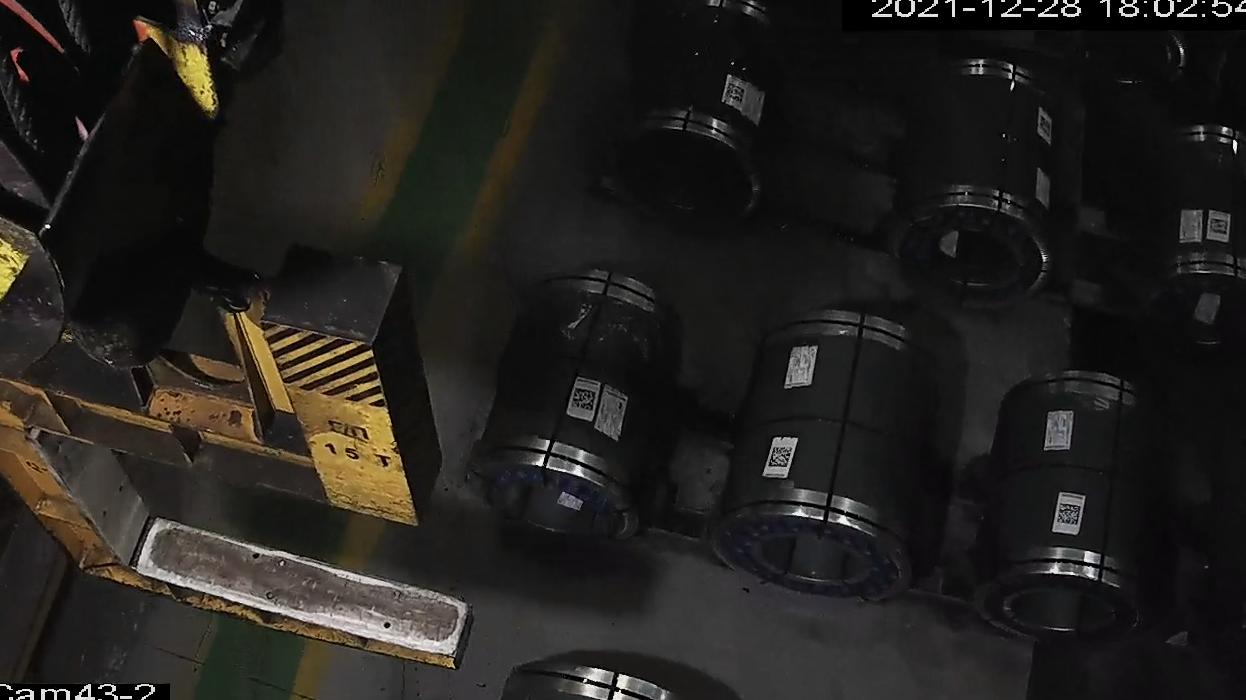data matrix: (571, 387, 598, 414), (1056, 503, 1083, 528), (768, 446, 795, 470), (724, 83, 747, 106), (1209, 217, 1230, 238), (1039, 114, 1054, 141)
